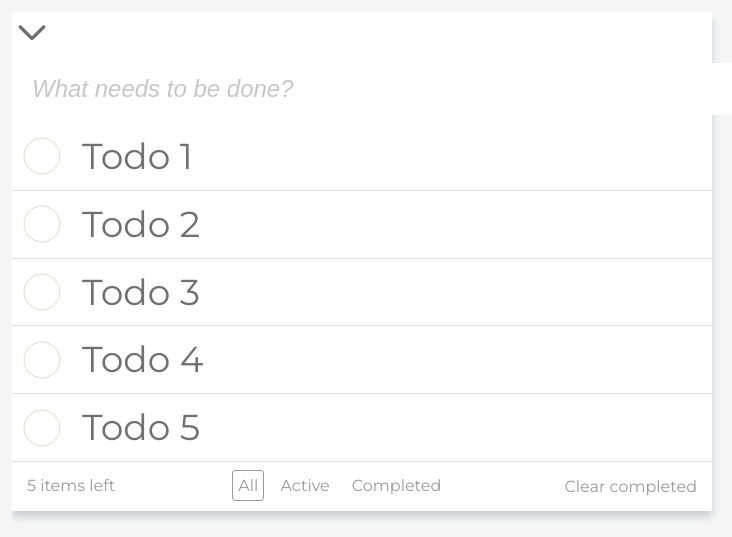
Test: List Component › clears completed todos
Click the button with alt text "○" next to "Todo 1".
click(42, 156)  # box [22,136,62,176]
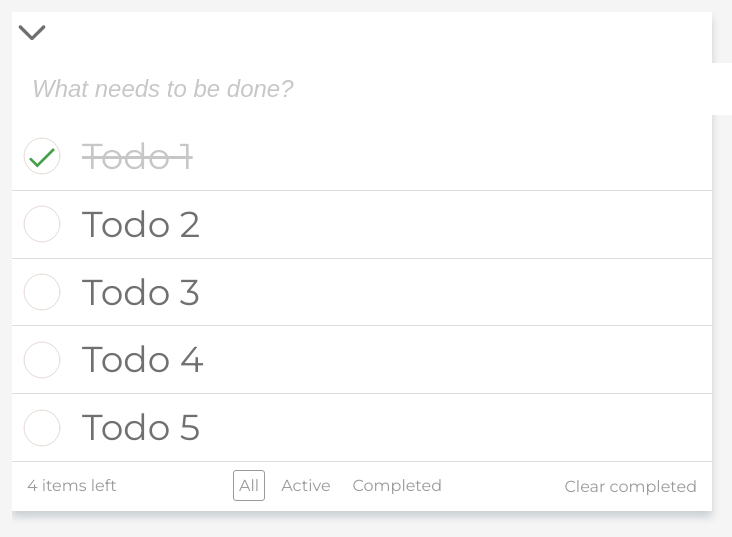
Click the button with alt text "○" next to "Todo 2".
click(42, 224)  # box [22,204,62,244]
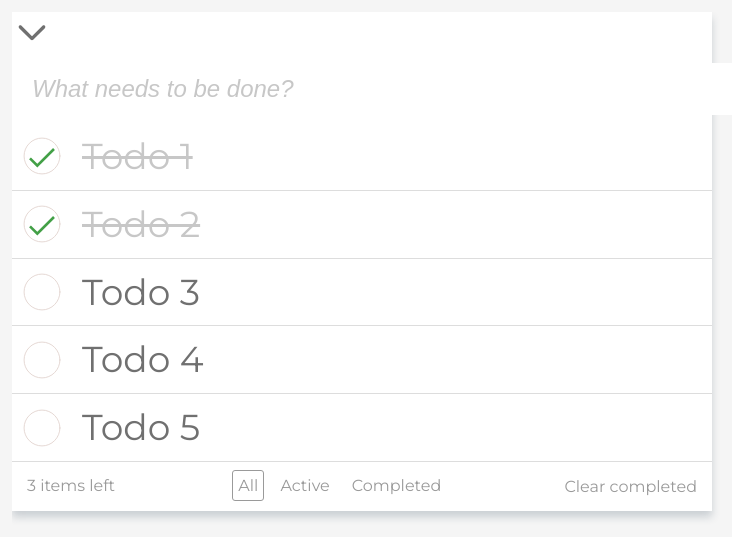
Click the button with alt text "○" next to "Todo 3".
click(42, 292)  # box [22,272,62,312]
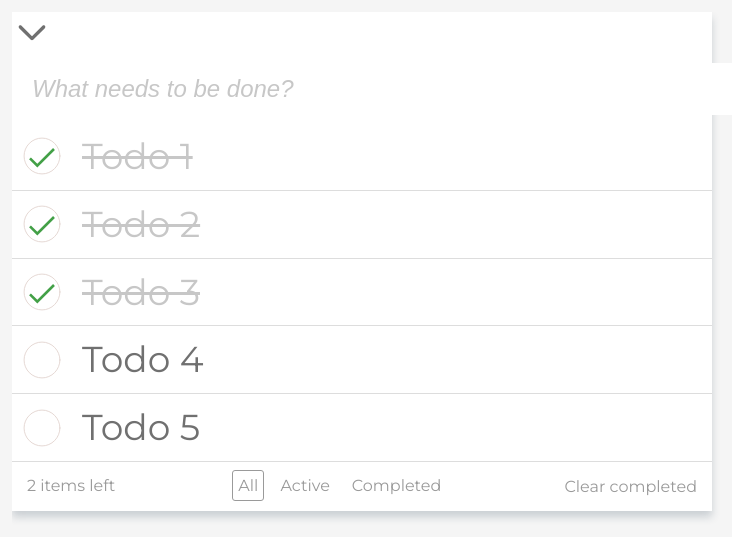
Click the button with alt text "○" next to "Todo 4".
click(42, 360)  # box [22,340,62,380]
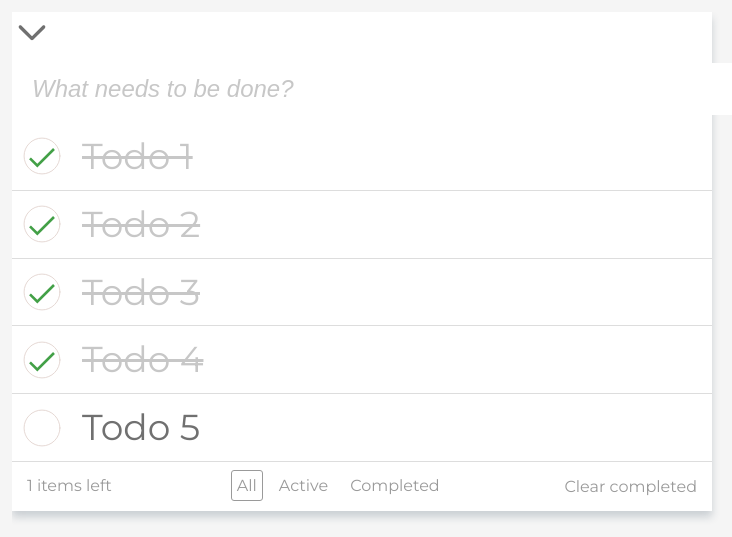
Click the button with alt text "○" next to "Todo 5".
click(42, 428)  # box [22,408,62,448]
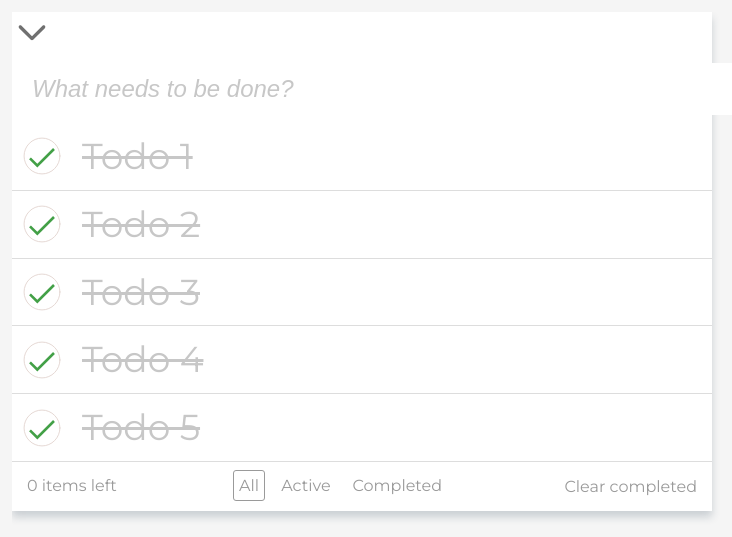
Click the button "Clear completed".
click(631, 486)  # box [564,477,697,496]
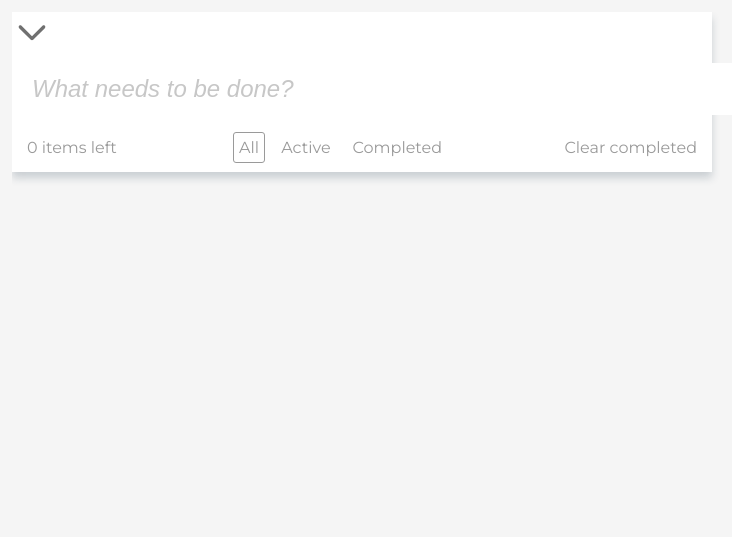
Now no list items are shown
